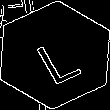L_NW: (27, 25, 83, 85)
